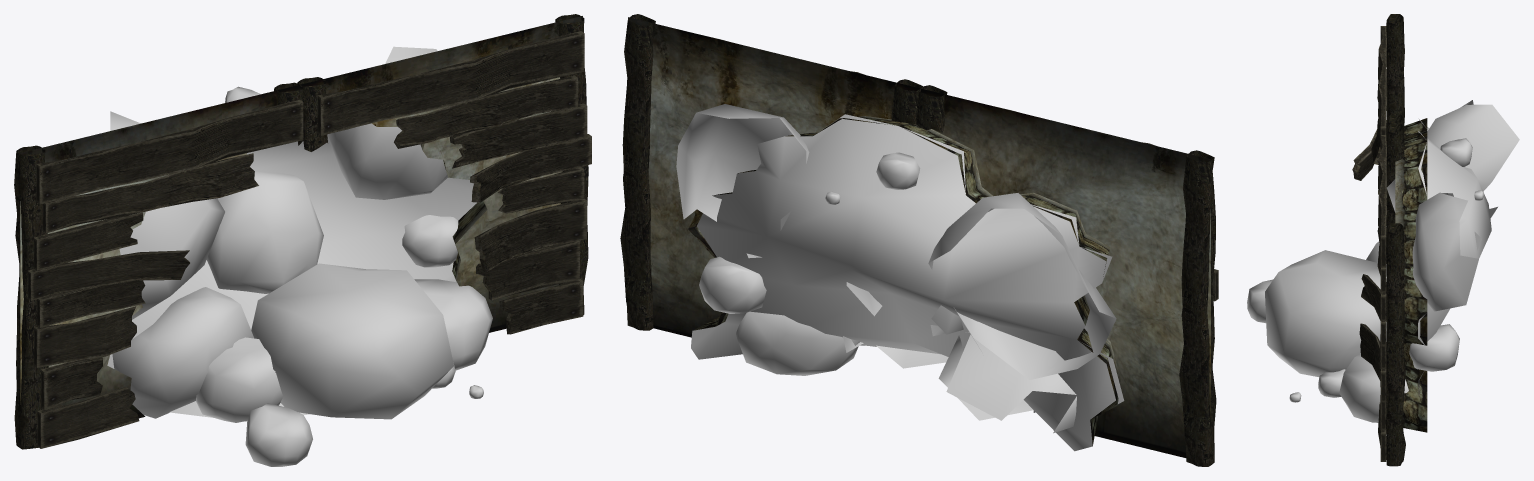
File: default02_broken_4x8m.dae
3 views of the same model, side by side, from view 1: azimuth 30°, elevation 25°; view 2: azimuth 150°, elevation 25°; view 3: azimuth 270°, elevation 25° (orthographic). The views are drawn at different scales.
Visible parts, largest first — view 1: polySurface128, polySurface111, polySurface33, polySurface68, polySurface83, polySurface34; view 2: polySurface68, polySurface33, polySurface111, polySurface83, polySurface34; view 3: polySurface111, polySurface83, polySurface34, polySurface128, polySurface68.
Boxes of the visible parts, x1,y1,x2,y2 form: polySurface128: (27, 31, 591, 448); polySurface111: (110, 46, 492, 466); polySurface33: (20, 16, 582, 418); polySurface68: (107, 137, 476, 421); polySurface83: (14, 14, 588, 449); polySurface34: (420, 143, 487, 282); polySurface68: (691, 114, 1124, 451); polySurface33: (628, 17, 1210, 457); polySurface111: (676, 104, 1116, 433); polySurface83: (620, 14, 1216, 466); polySurface34: (688, 116, 1120, 445); polySurface111: (1247, 100, 1519, 422); polySurface83: (1385, 14, 1405, 466); polySurface34: (1395, 118, 1427, 432); polySurface128: (1352, 26, 1386, 461); polySurface68: (1418, 118, 1491, 396).
Bounding box in the file's own units: 8.09 × 4.1 × 4.22.
